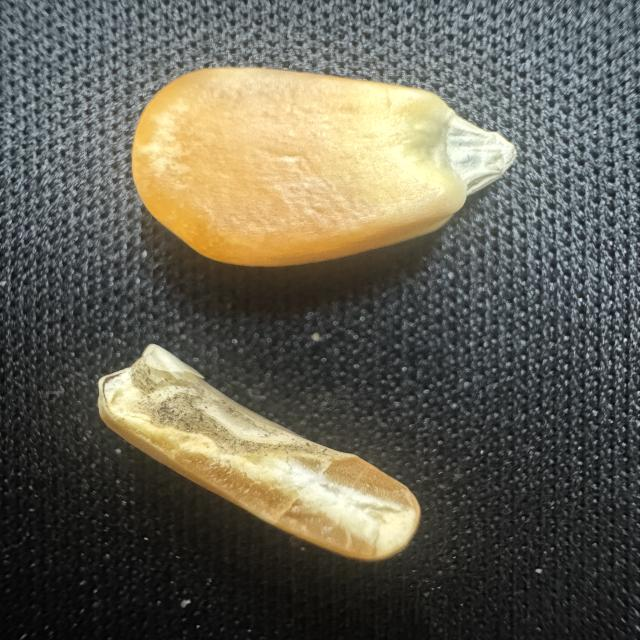Bad-Seed: (88, 335, 430, 569)
Good-Seed: (119, 59, 526, 280)
